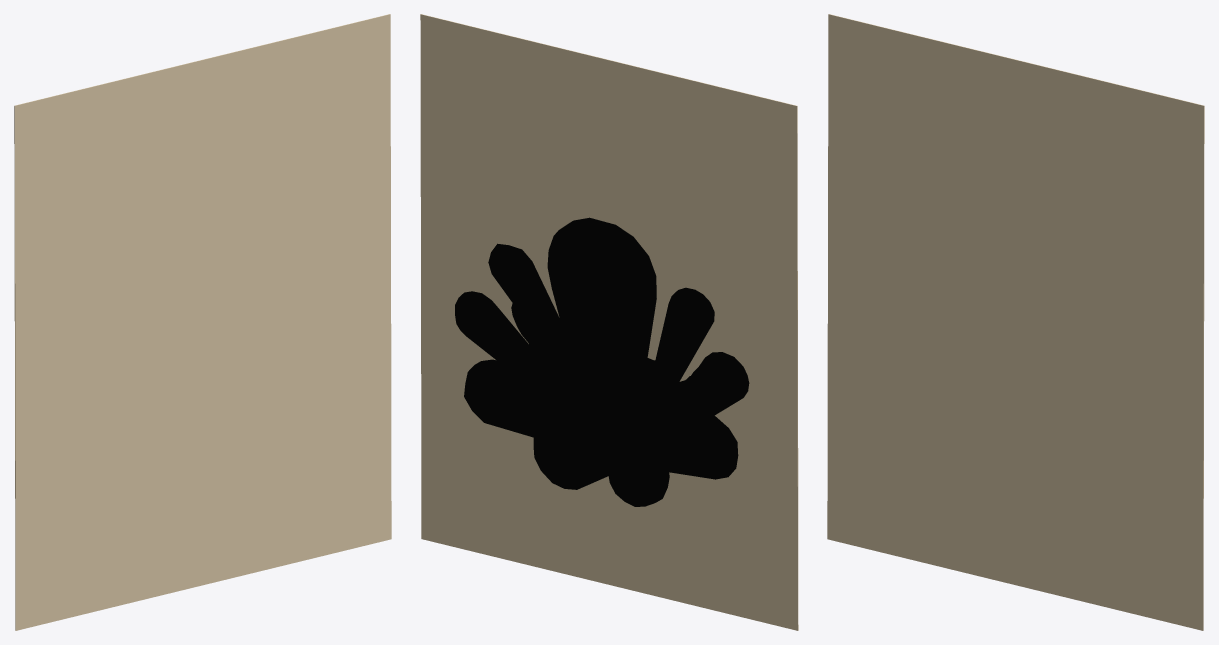
The model's file is mapareto.fbx.
3 renders of one model, left to right at view 1: azimuth 30°, elevation 25°; view 2: azimuth 150°, elevation 25°; view 3: azimuth 330°, elevation 25°, orthographic.
Parts seen in each view (by area): view 1: mapa reto; view 2: mapa reto; view 3: mapa reto.
Boxes of the visible parts, <box> form: mapa reto: <box>14,14,391,630</box>; mapa reto: <box>420,14,798,630</box>; mapa reto: <box>827,14,1204,630</box>.
Size of the model in its own units: 15.43 by 20.58 by 0.255.
